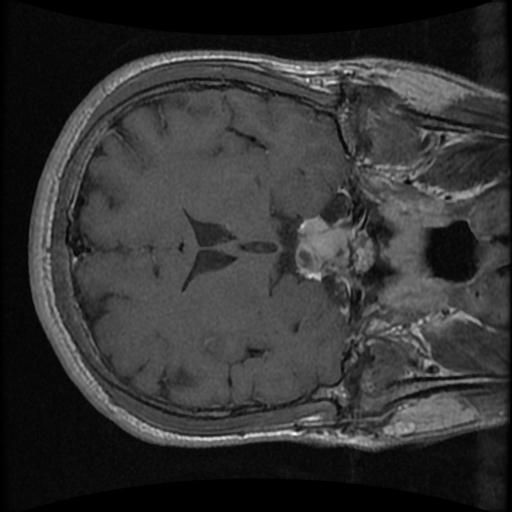pituitary tumour: (298, 217, 347, 273)
